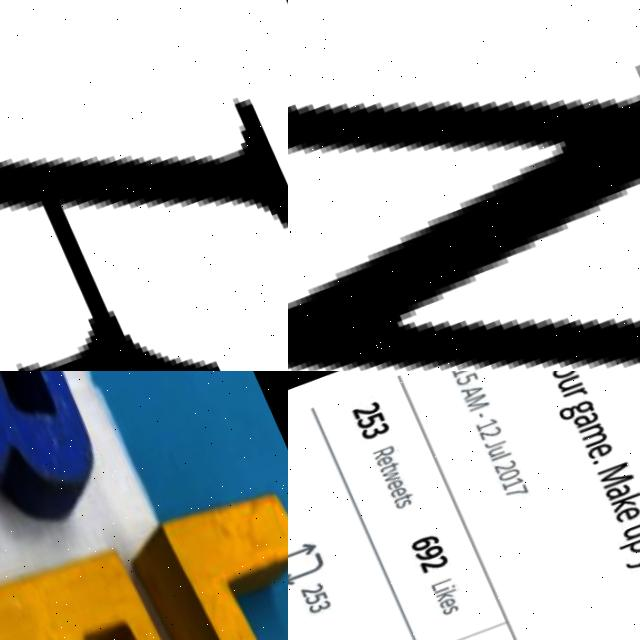0: (493, 464, 519, 480)
1: (472, 413, 498, 430), (499, 472, 523, 488), (448, 371, 473, 376)
2: (414, 550, 449, 573), (350, 397, 380, 419), (491, 454, 516, 471), (477, 421, 501, 438), (297, 580, 322, 596)
3: (358, 419, 391, 441), (304, 597, 329, 614)
5: (352, 407, 385, 429), (300, 587, 326, 605), (452, 371, 479, 385)
6: (407, 529, 439, 551)
7: (502, 480, 528, 497)
9: (410, 539, 444, 562)
B: (0, 371, 124, 557)
F: (0, 0, 288, 371)
L: (107, 446, 288, 640)
N: (288, 0, 640, 371)
R: (0, 504, 236, 640)
